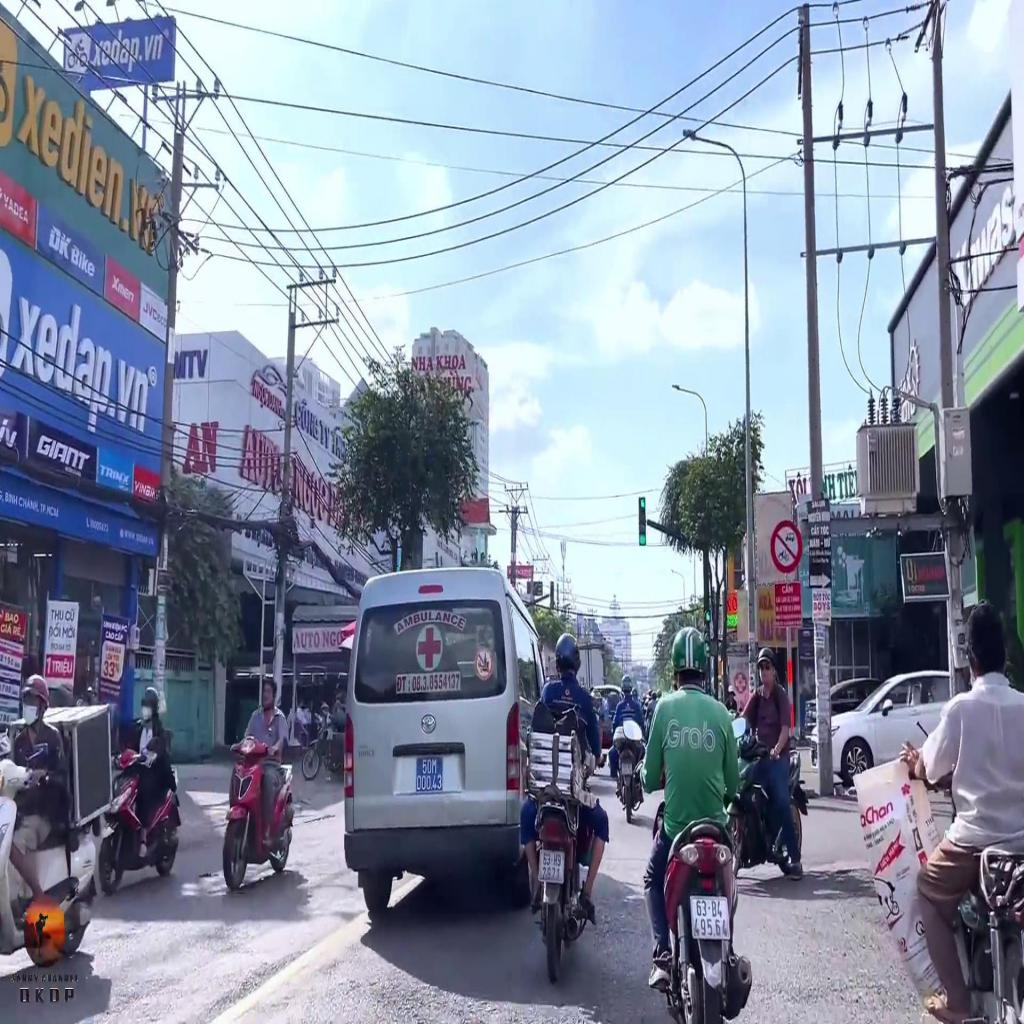cam_cac_loai_xe_3_banh: (770, 520, 803, 574)
